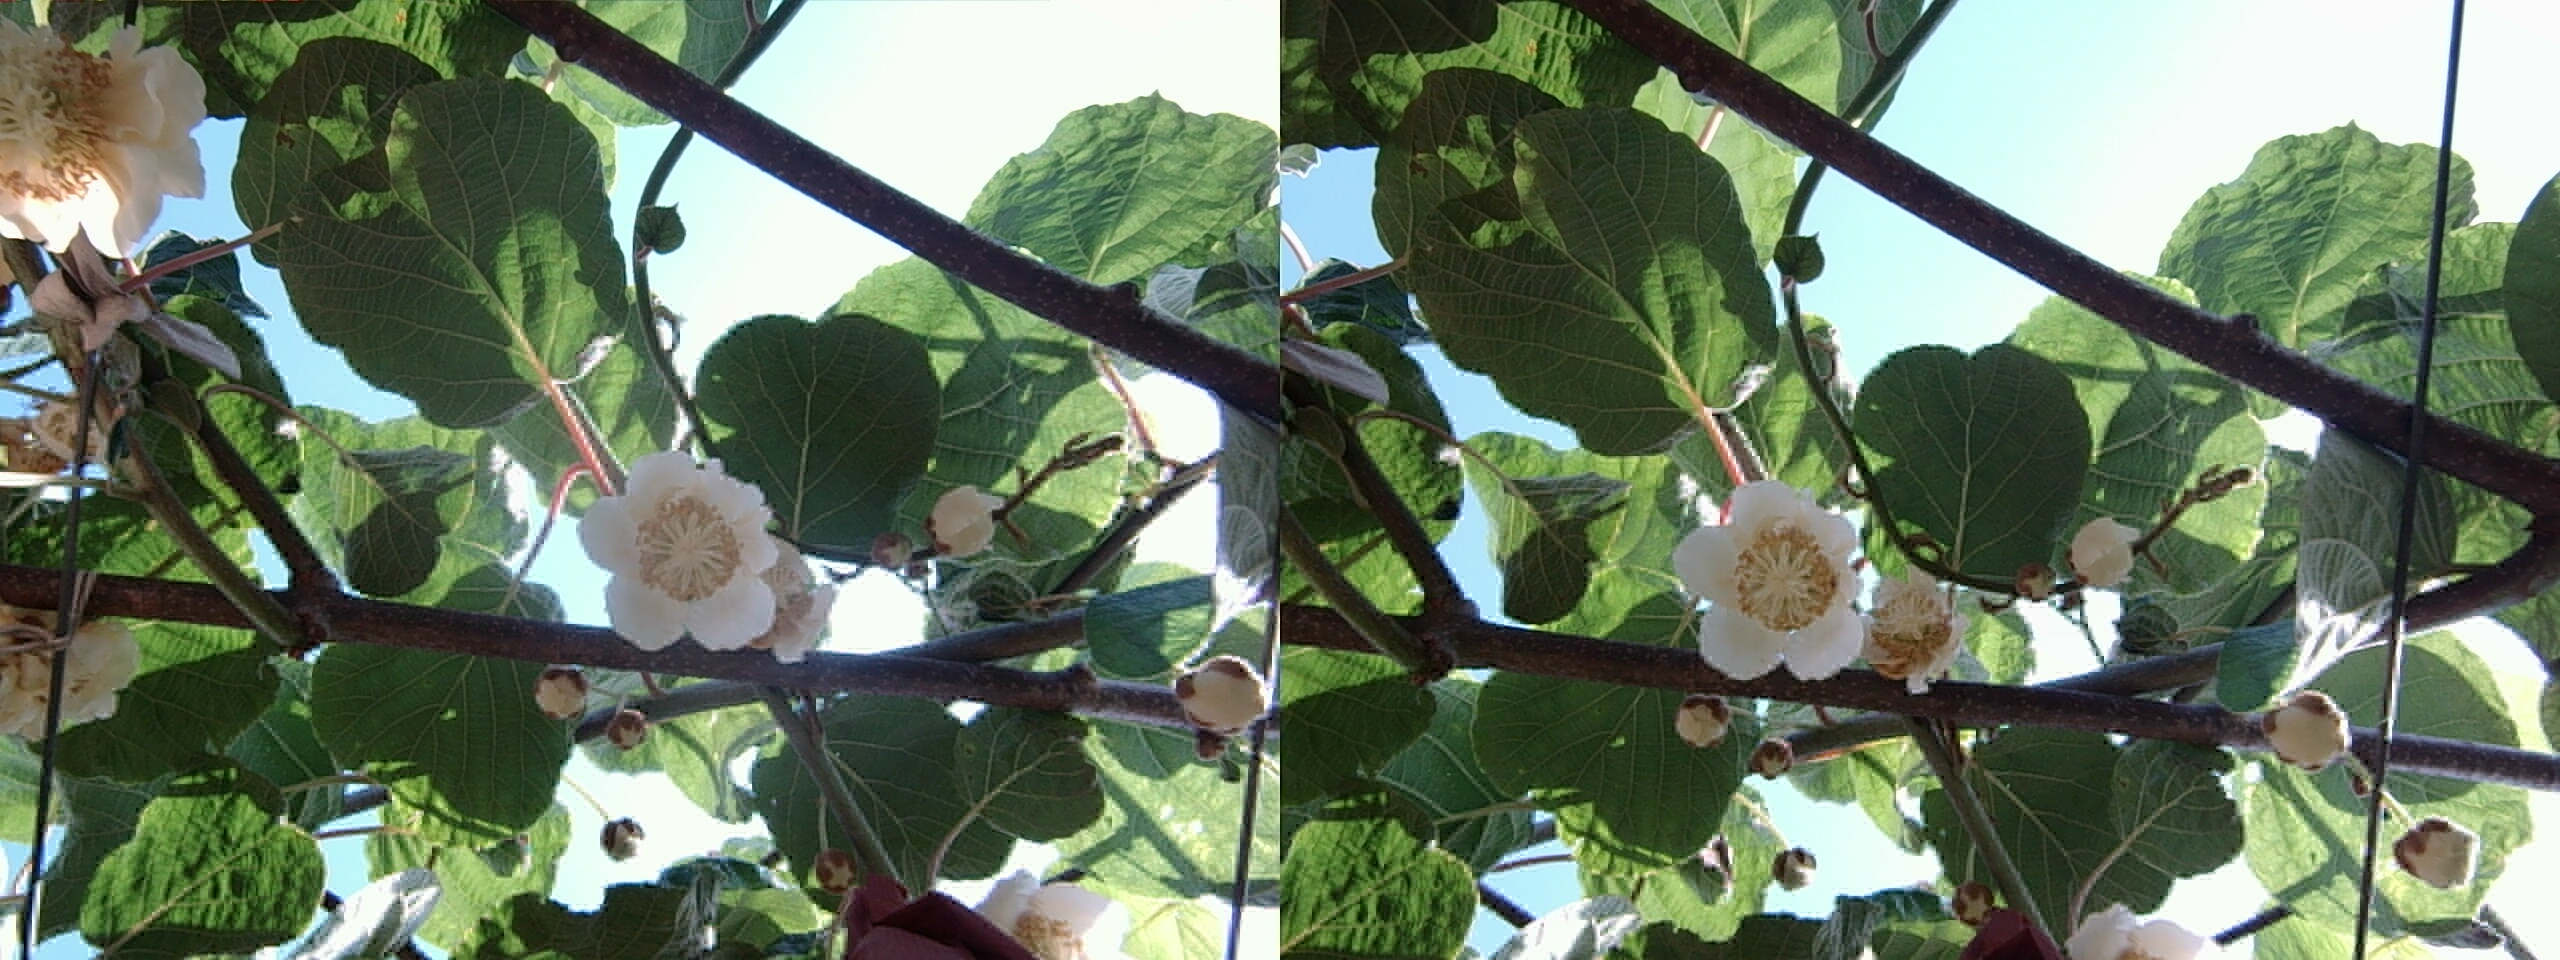flower: (570, 446, 802, 648), (0, 15, 198, 242), (1669, 470, 1873, 673), (1851, 571, 1958, 674)
